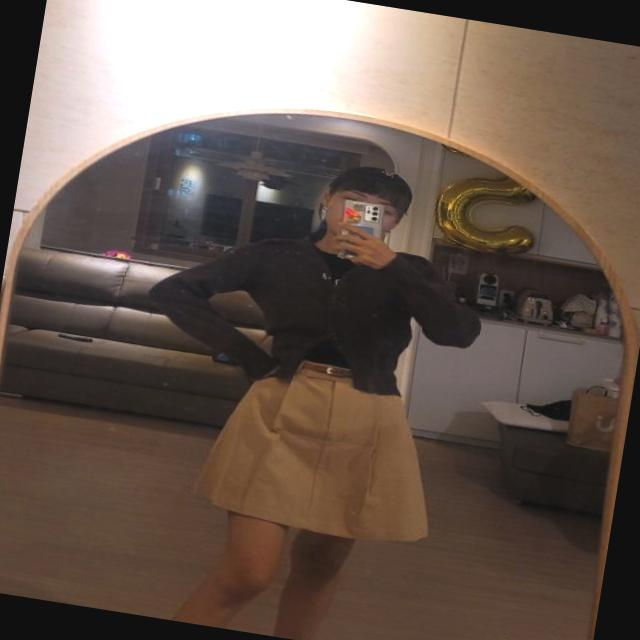cardigan: (138, 212, 494, 412)
skirt: (189, 346, 455, 550)
